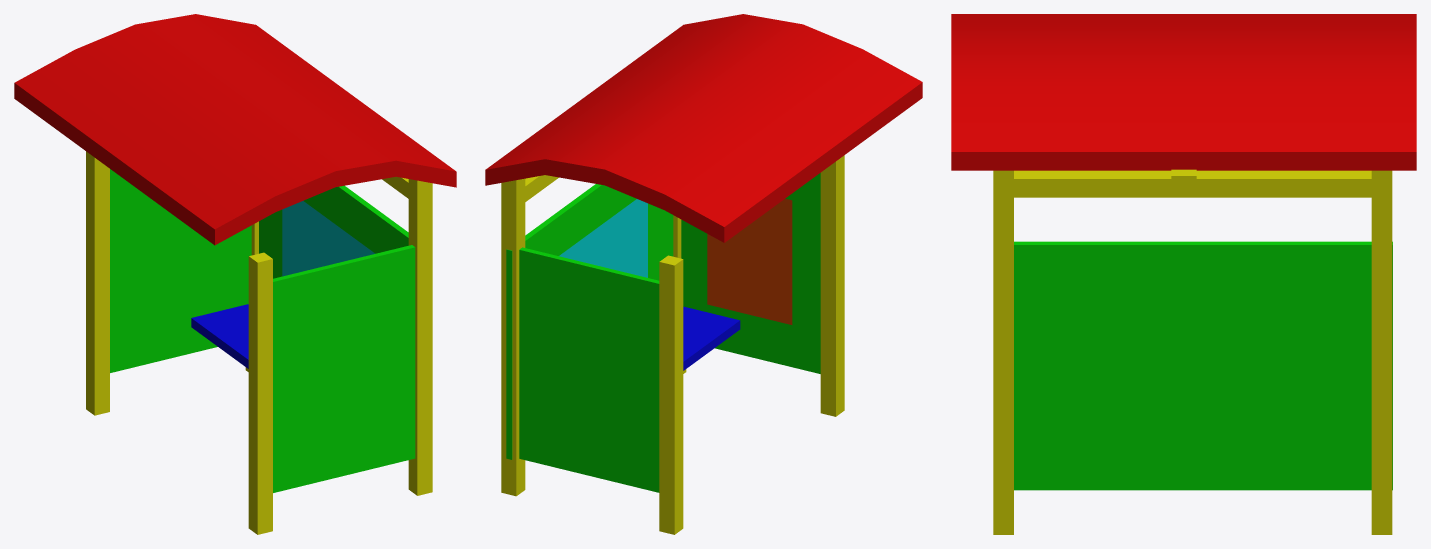
File: Bus_Station.fbx
3 views of the same model, side by side, from view 1: azimuth 30°, elevation 25°; view 2: azimuth 150°, elevation 25°; view 3: azimuth 270°, elevation 25° (orthographic). The views are drawn at different scales.
Visible parts, largest first — view 1: Bus_Station; view 2: Bus_Station; view 3: Bus_Station.
Boxes of the visible parts, bbox=[...] form: Bus_Station: bbox=[14, 14, 456, 534]; Bus_Station: bbox=[485, 14, 922, 534]; Bus_Station: bbox=[951, 14, 1416, 534].
Bounding box in the file's own units: 64.83 × 88.67 × 88.88.
